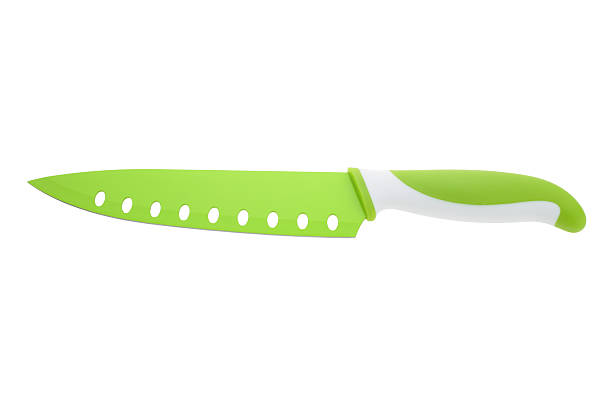knife: (23, 166, 589, 240)
